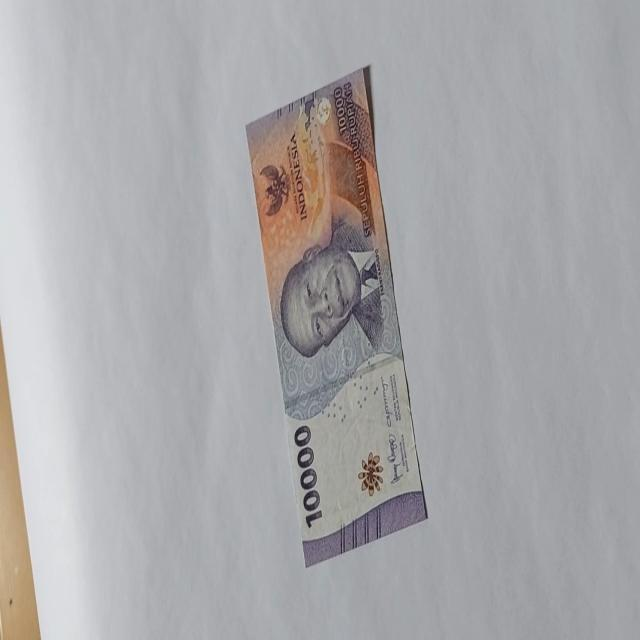sepuluh ribu rupiah: (244, 64, 428, 566)
